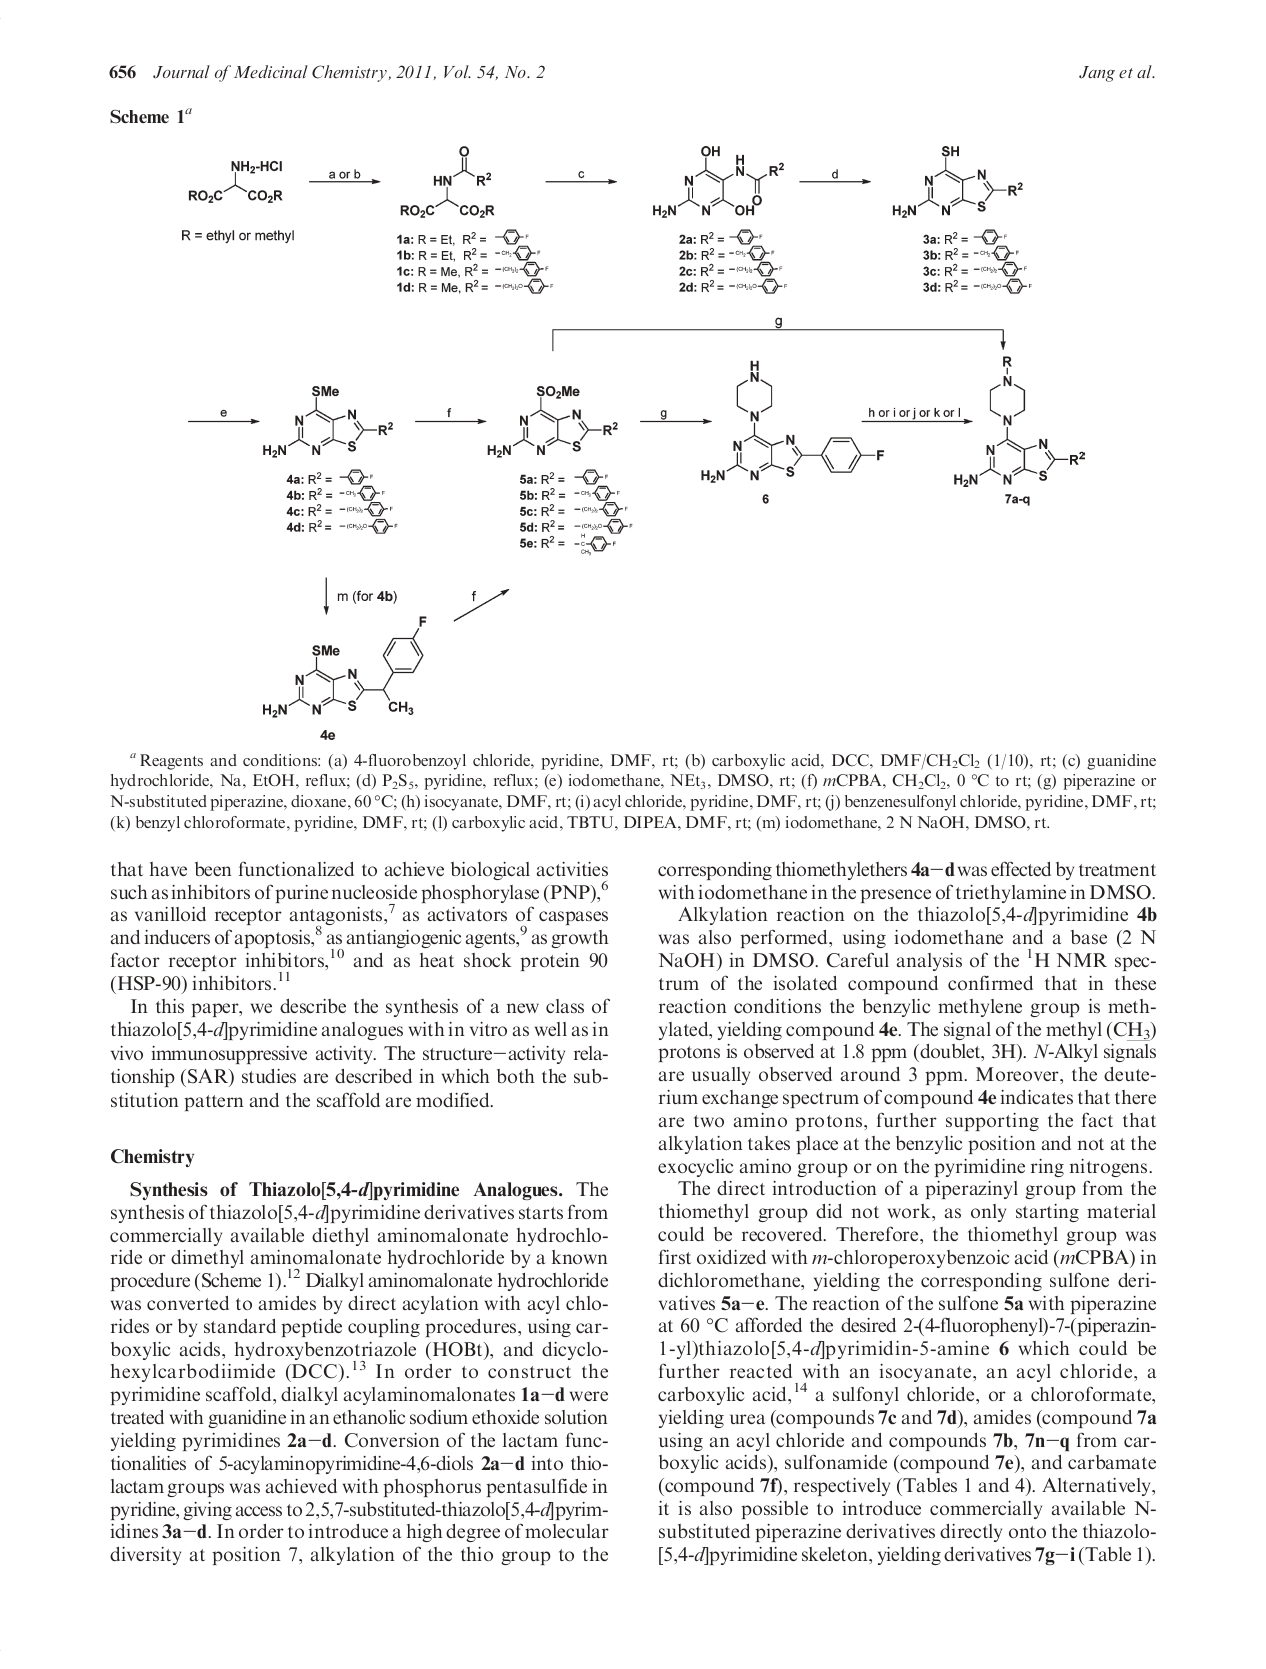exist_molecular: (697, 356, 890, 487), (952, 352, 1089, 489), (259, 612, 430, 719), (485, 376, 621, 461), (649, 140, 786, 223), (888, 140, 1027, 222), (261, 379, 394, 461), (394, 142, 501, 221), (184, 148, 285, 213), (336, 517, 400, 535), (570, 519, 634, 535), (572, 533, 618, 555), (334, 501, 395, 517), (570, 501, 628, 517), (570, 484, 620, 501), (336, 485, 387, 501), (338, 464, 374, 485), (572, 468, 609, 485)
